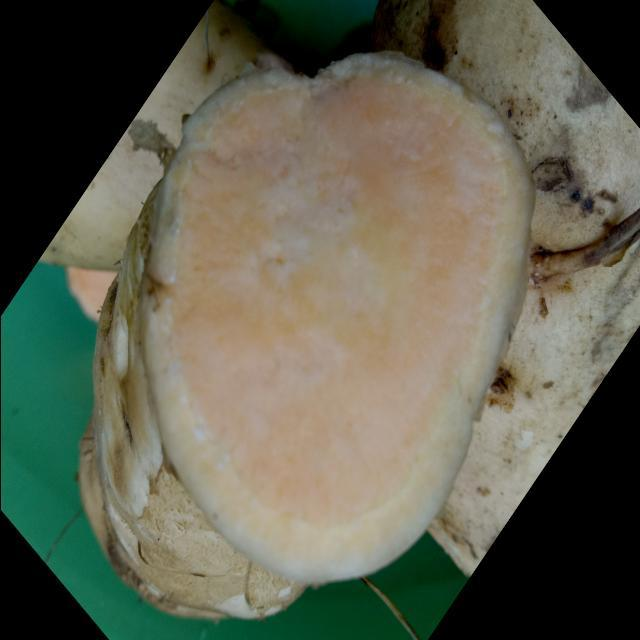Healthy Sweet Potato: (140, 53, 534, 583)
